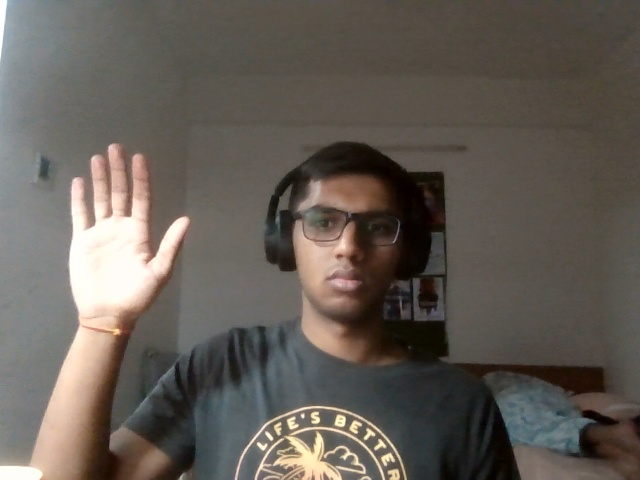hello: (53, 137, 211, 335)
